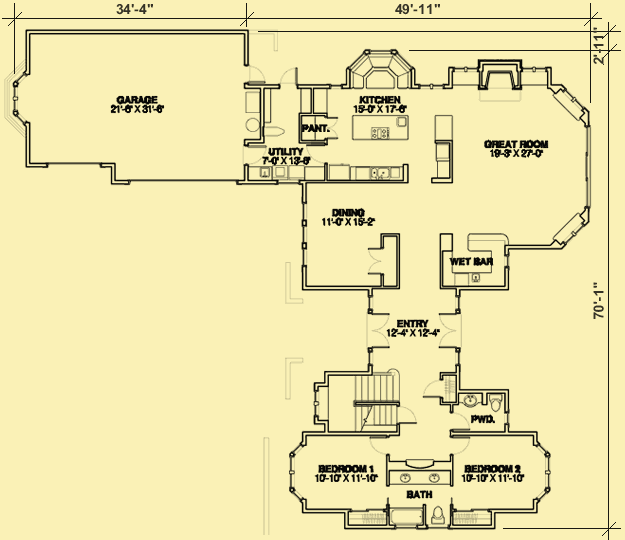door: (438, 307, 464, 353), (366, 308, 391, 352), (421, 374, 444, 405), (242, 142, 269, 166), (364, 246, 385, 276), (278, 65, 302, 88), (400, 402, 418, 429), (325, 113, 342, 141), (245, 65, 267, 86)
kitchen bar: (350, 111, 412, 146)
large sink: (426, 505, 452, 530), (485, 392, 509, 415)
large sofa: (430, 137, 457, 189)
small sink: (390, 469, 450, 488), (457, 389, 483, 409)
stairs: (325, 373, 400, 438)
tub: (386, 505, 428, 529)
